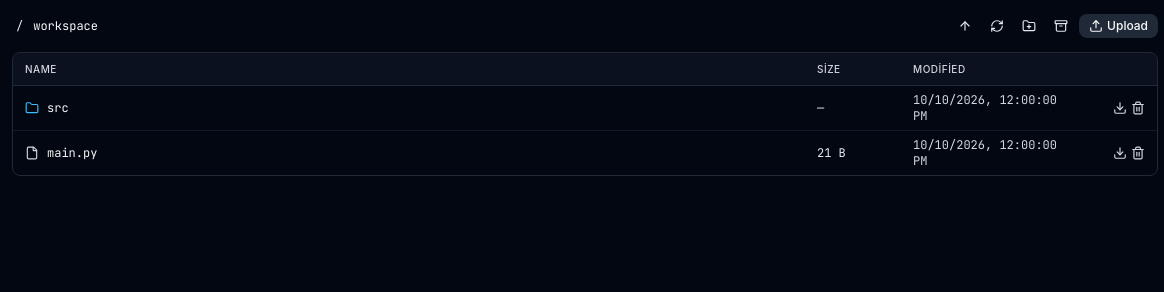
Test: SandboxFileBrowser › previews a text file and marks a binary one
Click the button "main.py": (61, 153) [25,145,97,161]
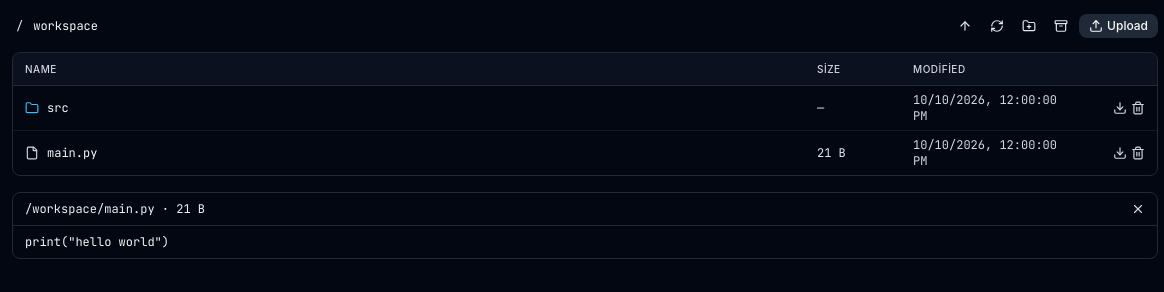
Now the element showing "/workspace/main.py · 21 B print(\"hello world\")" shows "print(\"hello world\")", box [25,234,169,250]
Click the button "main.py": (61, 153) [25,145,97,161]
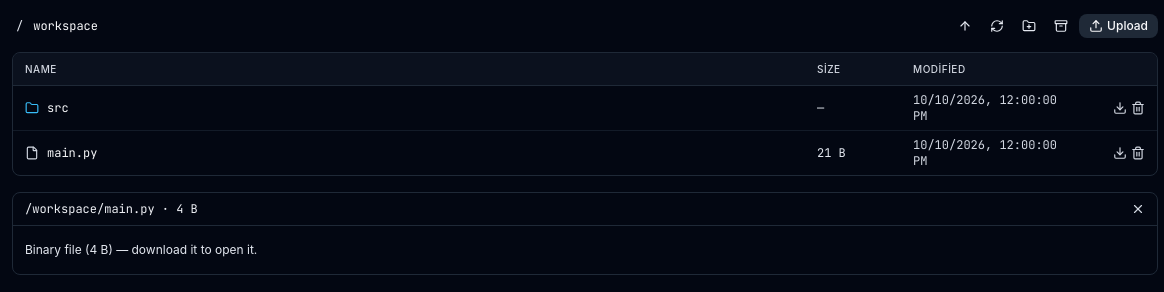
Now the element that starts with "/workspace/main.py · 4 B" shows "Binary file", box [25,242,257,257]
